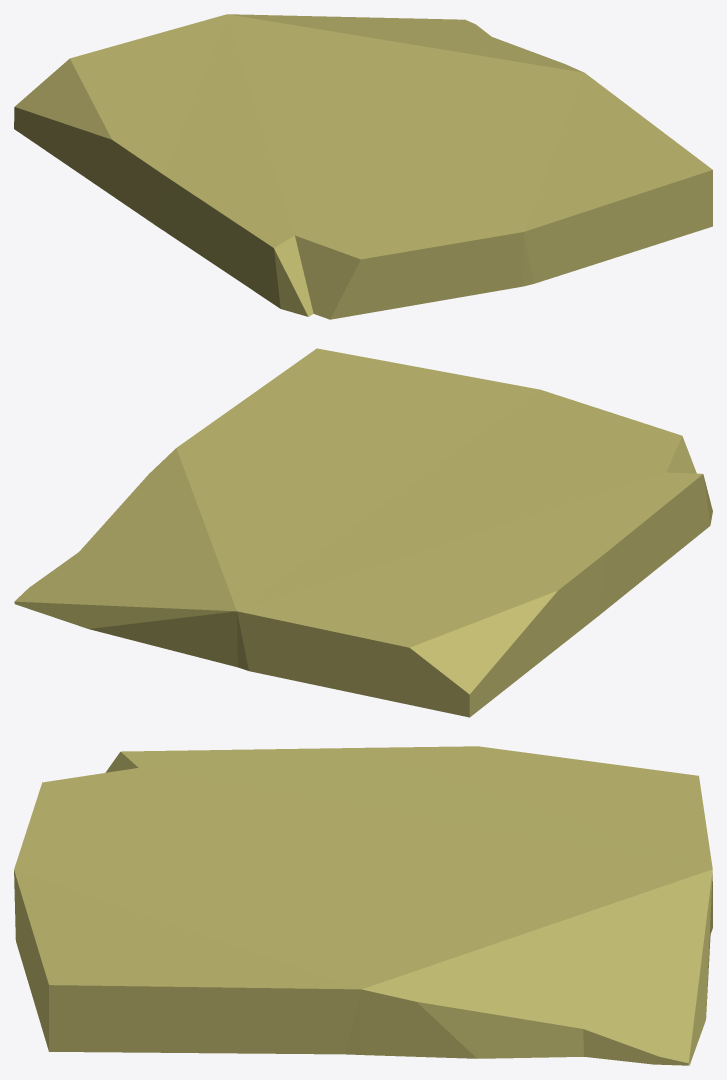
The model's file is Prop_Jungle_Temple_Stepping_Stone_02.FBX.
The picture shows the model from 3 angles, top to bottom: view 1: azimuth 30°, elevation 25°; view 2: azimuth 150°, elevation 25°; view 3: azimuth 270°, elevation 25°; orthographic projection. The views are drawn at different scales.
Parts seen in each view (by area): view 1: Prop_Jungle_Temple_Stepping_Stone_02; view 2: Prop_Jungle_Temple_Stepping_Stone_02; view 3: Prop_Jungle_Temple_Stepping_Stone_02.
Part boxes in pixels (bbox=[...]): Prop_Jungle_Temple_Stepping_Stone_02: bbox=[14, 14, 712, 319]; Prop_Jungle_Temple_Stepping_Stone_02: bbox=[14, 348, 712, 717]; Prop_Jungle_Temple_Stepping_Stone_02: bbox=[14, 746, 712, 1065].
Bounding box in the file's own units: 811 × 97.99 × 930.
